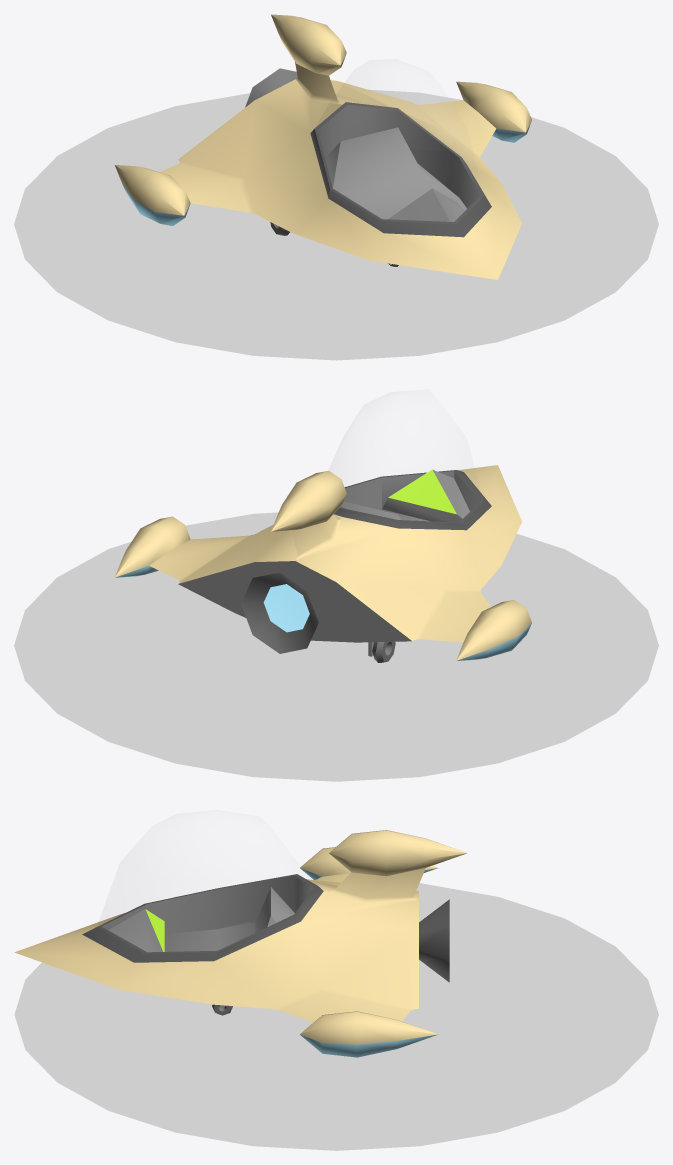
File: scoutship.glb
3 views of the same model, one above another, from view 1: azimuth 30°, elevation 25°; view 2: azimuth 150°, elevation 25°; view 3: azimuth 270°, elevation 25° (orthographic).
Parts seen in each view (by area): view 1: Disc, Hull; view 2: Disc, Hull; view 3: Disc, Hull.
Boxes of the visible parts, left/top/right/bottom form: Disc: left=14, top=89, right=658, bottom=360; Hull: left=115, top=14, right=531, bottom=279; Disc: left=14, top=512, right=658, bottom=781; Hull: left=115, top=465, right=531, bottom=660; Disc: left=14, top=879, right=658, bottom=1150; Hull: left=14, top=830, right=467, bottom=1057.
Size of the model in its own units: 2.48 by 0.8681 by 2.48.
